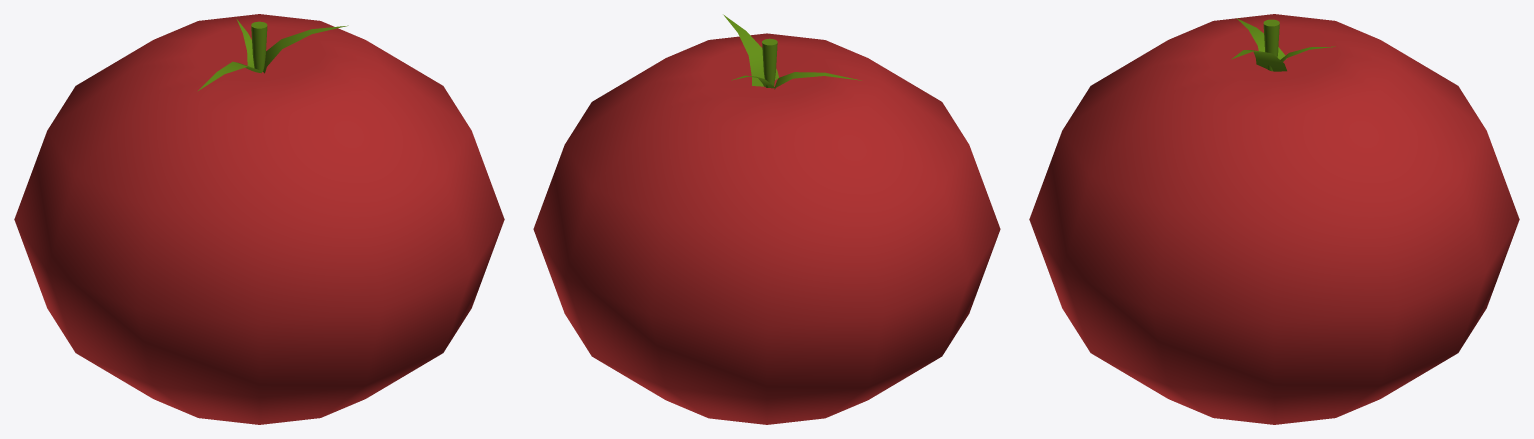
The model's file is tomato.FBX.
3 views of the same model, side by side, from view 1: azimuth 30°, elevation 25°; view 2: azimuth 150°, elevation 25°; view 3: azimuth 270°, elevation 25° (orthographic). The views are drawn at different scales.
Parts seen in each view (by area): view 1: Sphere016, Cylinder003, Plane003; view 2: Sphere016, Plane003, Cylinder003; view 3: Sphere016, Cylinder003, Plane003.
Boxes of the visible parts, left/top/right/bottom form: Sphere016: left=14, top=14, right=504, bottom=424; Cylinder003: left=251, top=21, right=267, bottom=71; Plane003: left=263, top=25, right=348, bottom=73; Sphere016: left=533, top=33, right=1000, bottom=424; Plane003: left=723, top=14, right=778, bottom=86; Cylinder003: left=762, top=38, right=777, bottom=87; Sphere016: left=1029, top=14, right=1519, bottom=424; Cylinder003: left=1263, top=19, right=1279, bottom=71; Plane003: left=1231, top=50, right=1286, bottom=71.
Bounding box in the file's own units: 14.48 × 11.78 × 14.48.
1 material, 1 textured.
